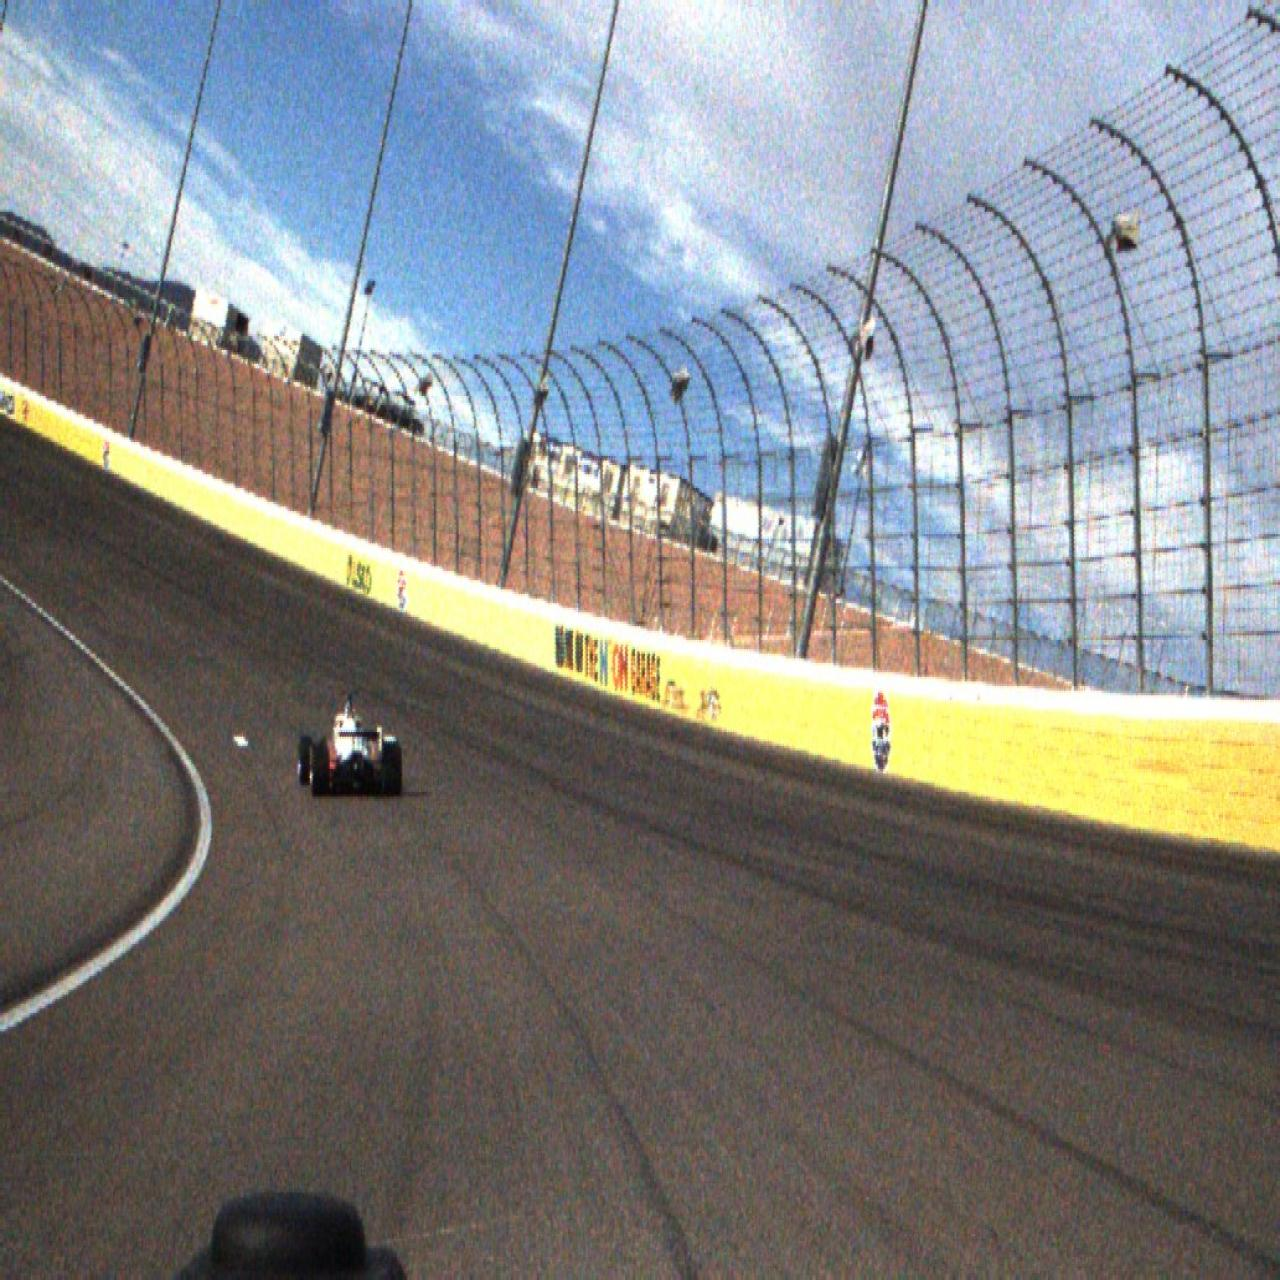AV: (297, 690, 402, 798)
Wheel: (383, 742, 402, 797), (312, 743, 329, 797), (300, 735, 313, 785)
